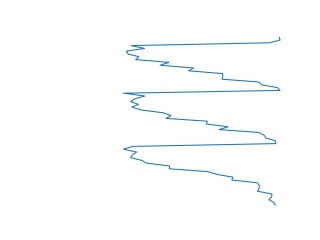distributaryMouthBar: (120, 35, 284, 209)
